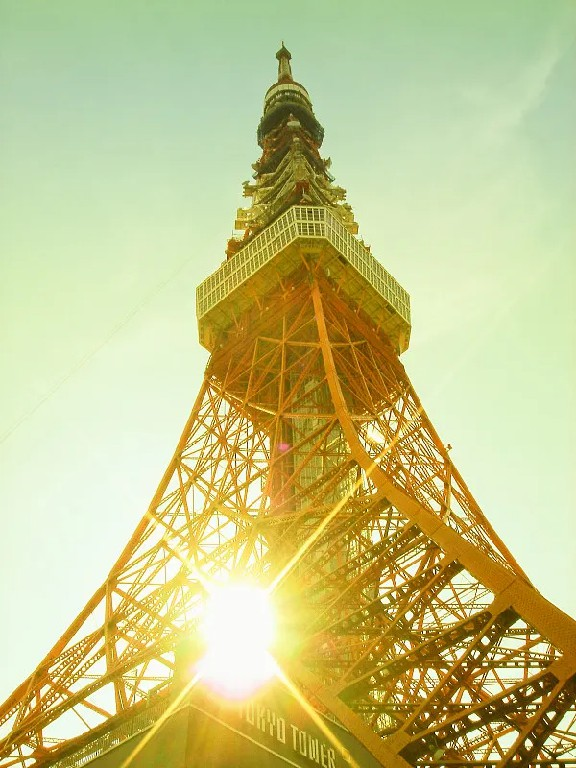Tokyo: (1, 39, 576, 766)
